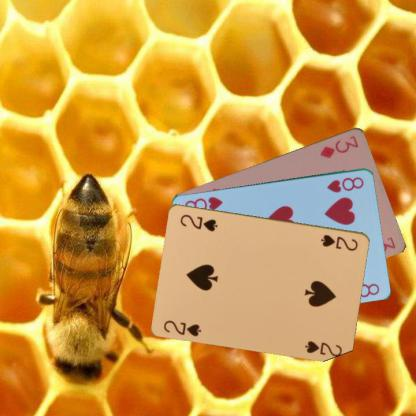2s: (318, 231, 360, 252), (161, 318, 203, 338)
3d: (317, 132, 360, 160)
8h: (325, 174, 365, 193)
